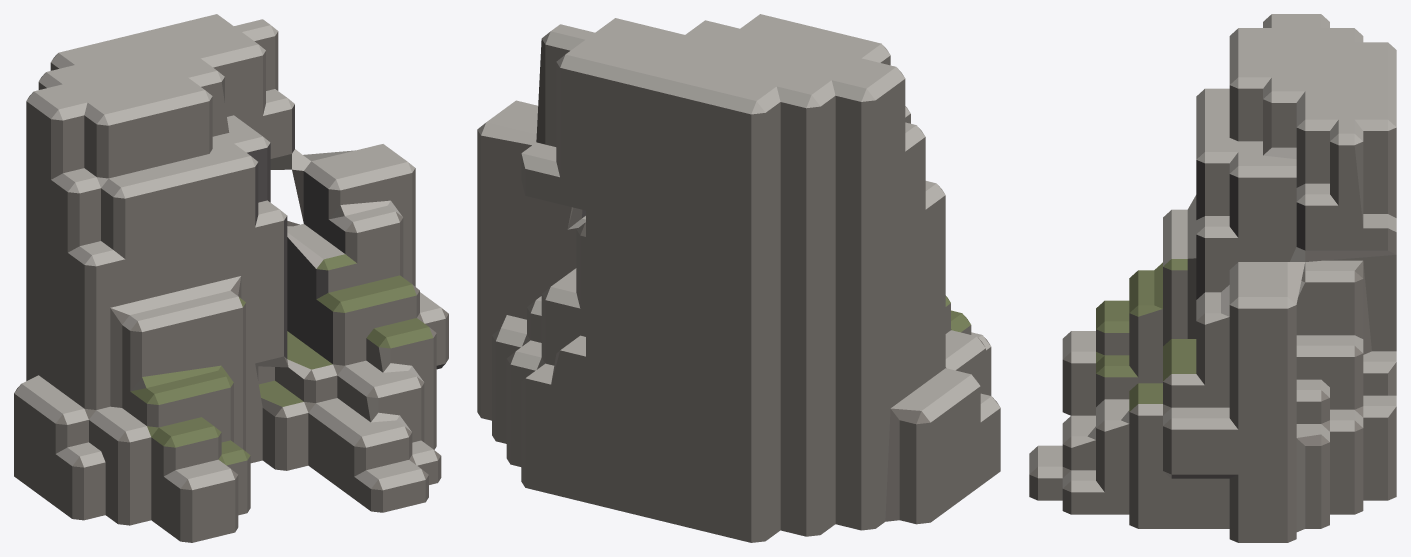
The model's file is rock_stage1_var_0.glb.
3 renders of one model, left to right at view 1: azimuth 30°, elevation 25°; view 2: azimuth 150°, elevation 25°; view 3: azimuth 270°, elevation 25°, orthographic. The views are drawn at different scales.
Visible parts, largest first — view 1: destructible_rock_stage_1_var_1_S, destructible_rock_stage_1_var_1_L, destructible_rock_stage_1_var_1_M, destructible_rock_stage_1_var_1_D; view 2: destructible_rock_stage_1_var_1_S, destructible_rock_stage_1_var_1_L; view 3: destructible_rock_stage_1_var_1_S, destructible_rock_stage_1_var_1_L, destructible_rock_stage_1_var_1_M, destructible_rock_stage_1_var_1_D.
Boxes of the visible parts, box(x1,y1,x2,y2) form: destructible_rock_stage_1_var_1_S: box(14, 31, 448, 542); destructible_rock_stage_1_var_1_L: box(14, 14, 445, 490); destructible_rock_stage_1_var_1_M: box(130, 254, 433, 465); destructible_rock_stage_1_var_1_D: box(247, 104, 445, 369); destructible_rock_stage_1_var_1_S: box(477, 39, 1000, 542); destructible_rock_stage_1_var_1_L: box(477, 14, 1000, 422); destructible_rock_stage_1_var_1_S: box(1029, 85, 1396, 542); destructible_rock_stage_1_var_1_L: box(1029, 14, 1396, 492); destructible_rock_stage_1_var_1_M: box(1096, 259, 1196, 411); destructible_rock_stage_1_var_1_D: box(1171, 160, 1305, 478).
Bounding box in the file's own units: 1.95 × 1.8 × 1.65.
